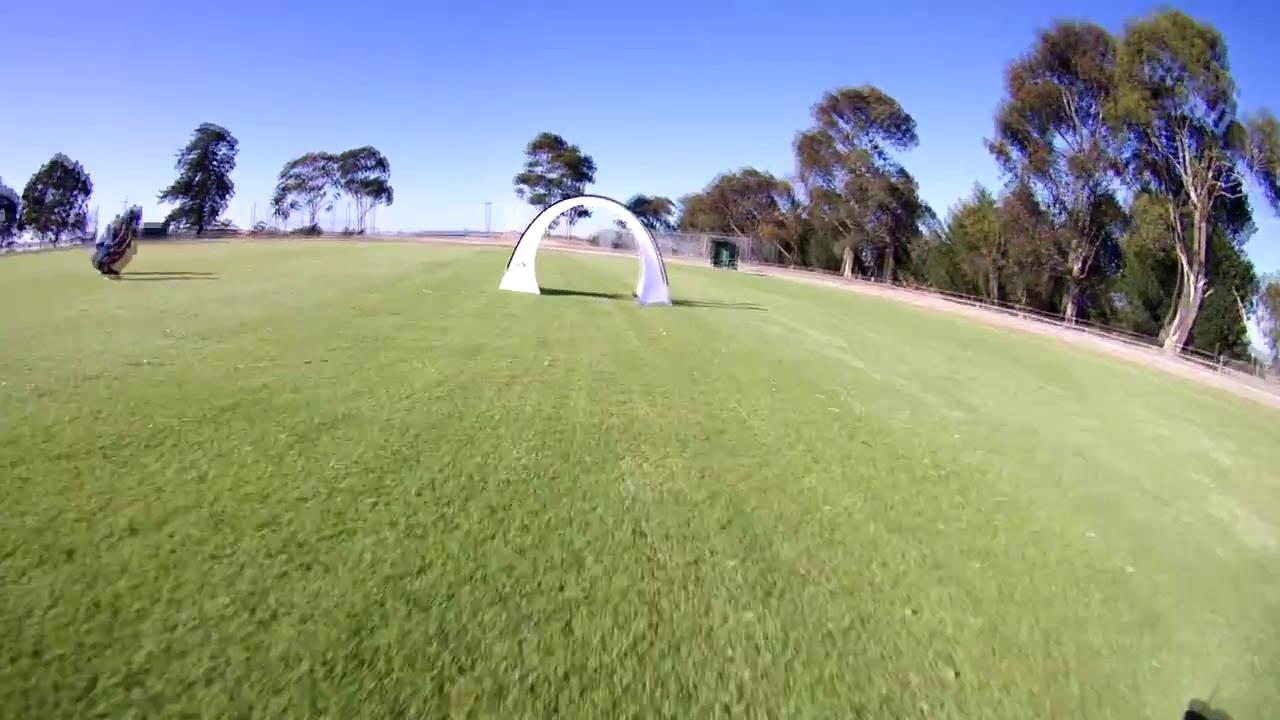gate: (495, 192, 678, 310)
